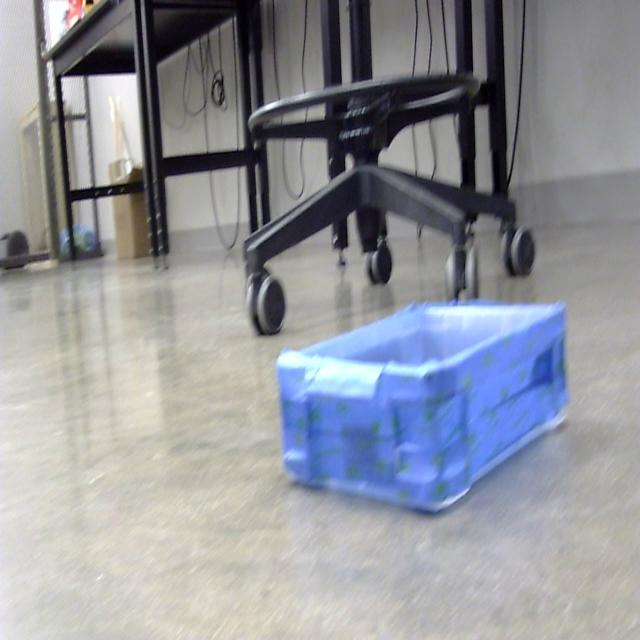bucket: (274, 301, 570, 517)
